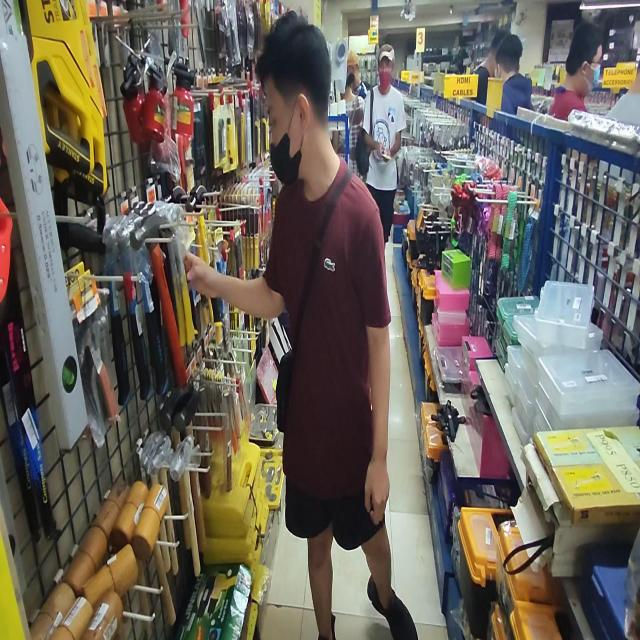hammer: (130, 214, 187, 388)
